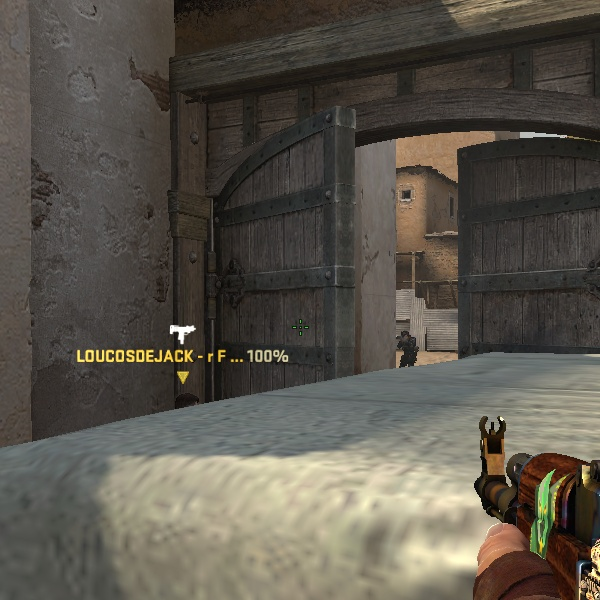ct_body: (393, 324, 423, 369)
ct_head: (398, 328, 413, 342)
t_head: (170, 388, 205, 410)
